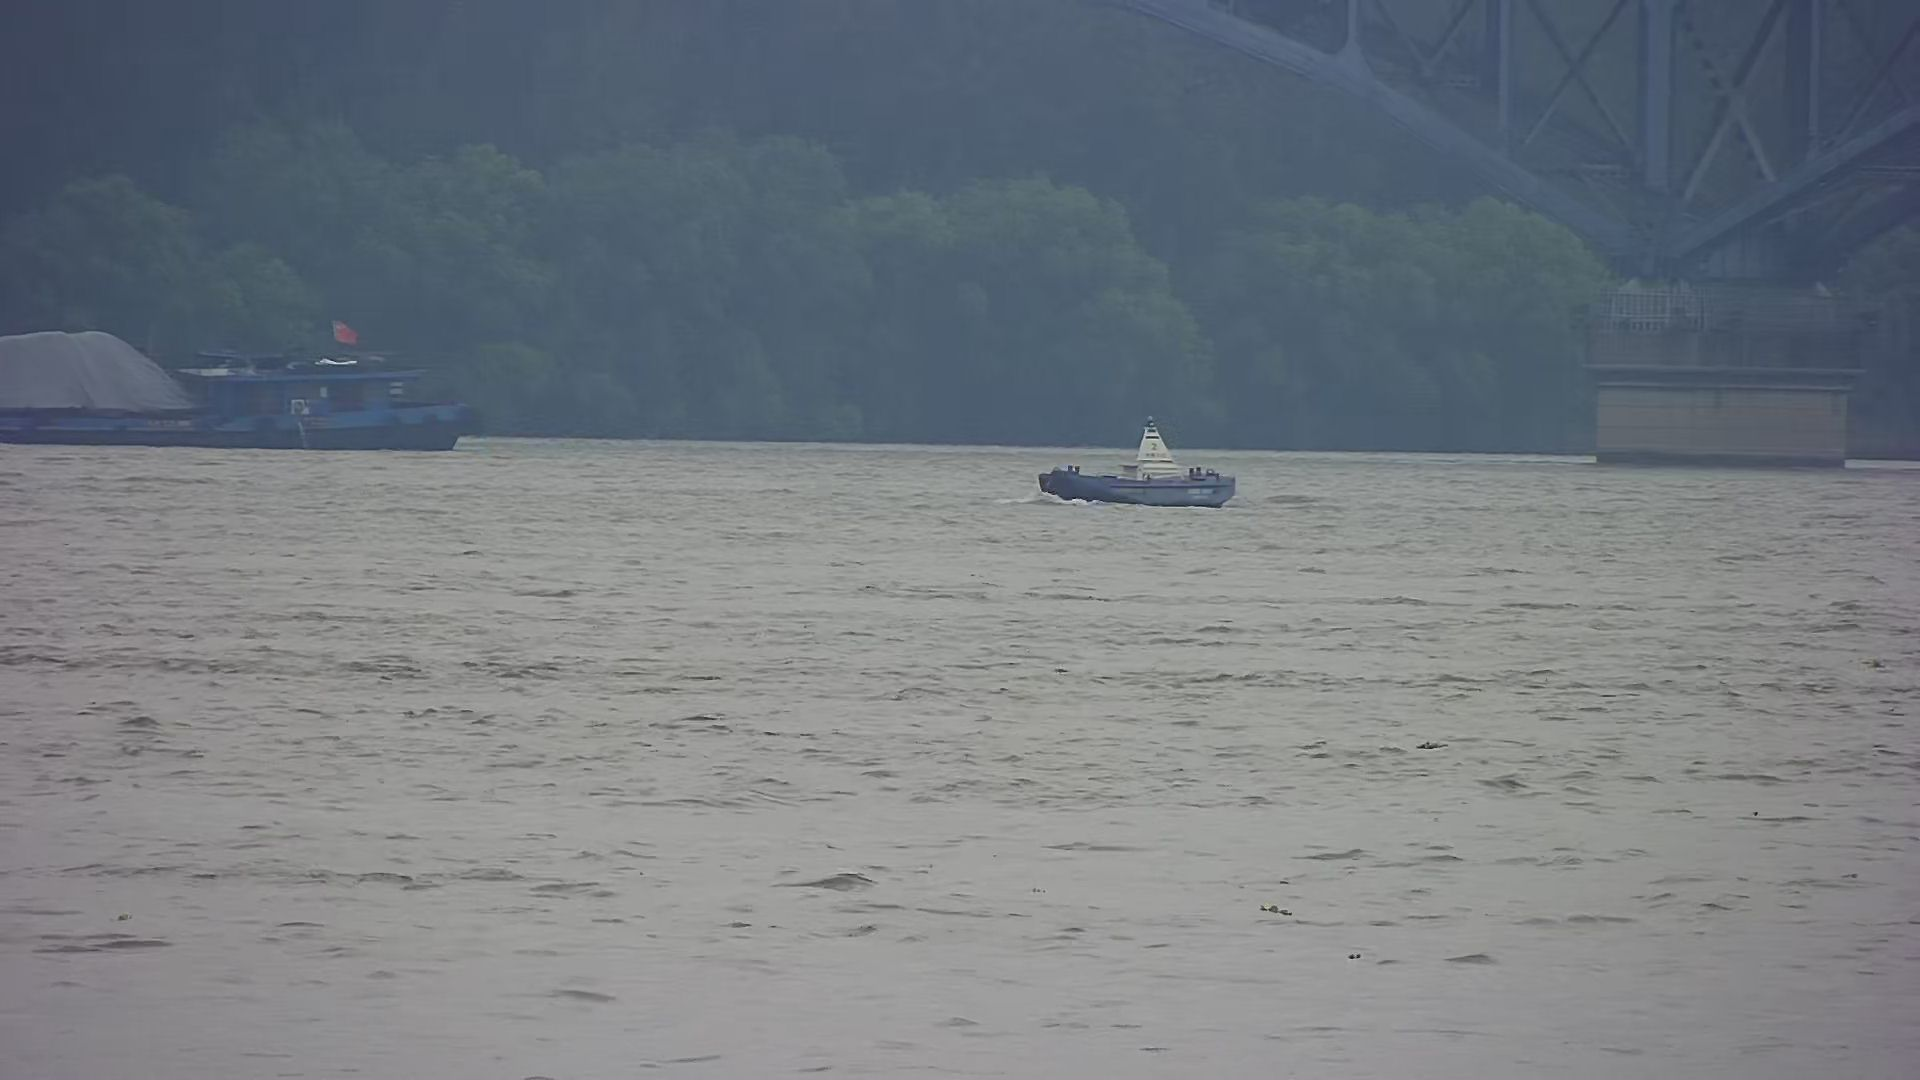boat: (1010, 401, 1254, 512)
bridge: (1088, 1, 1919, 476)
ship: (1, 313, 495, 462)
